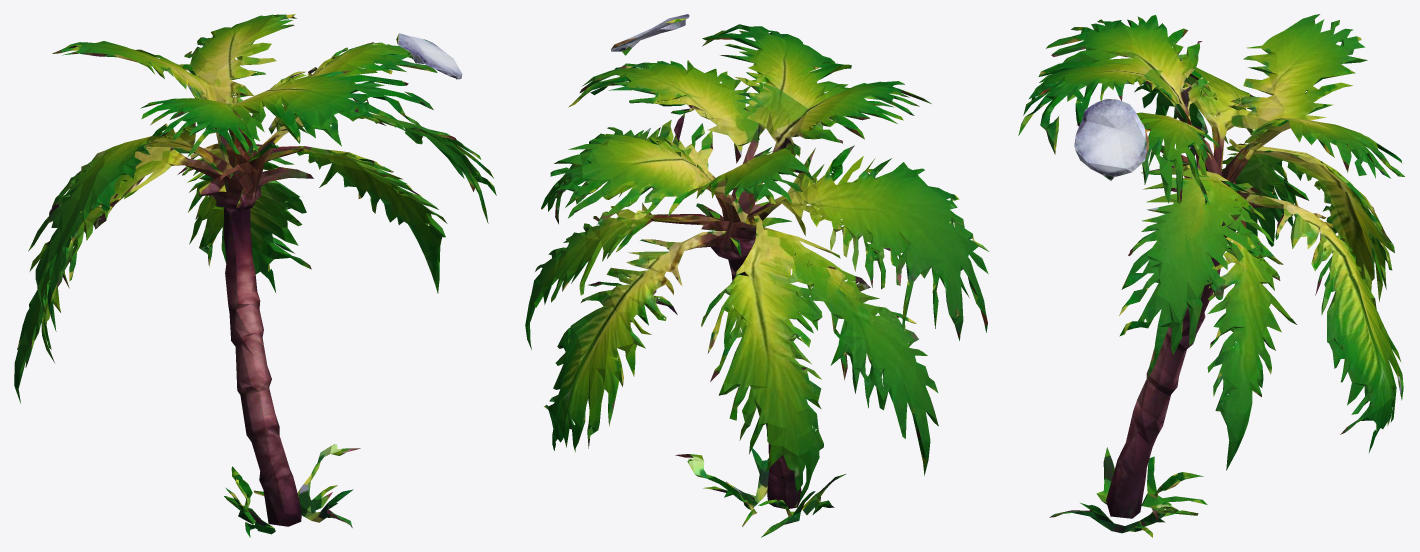
File: palm_a.glb
The picture shows the model from 3 angles, left to right: view 1: azimuth 30°, elevation 25°; view 2: azimuth 150°, elevation 25°; view 3: azimuth 270°, elevation 25°; orthographic projection. The views are drawn at different scales.
Parts seen in each view (by area): view 1: tmpb6tw956n.ply; view 2: tmpb6tw956n.ply; view 3: tmpb6tw956n.ply.
Boxes of the visible parts, bbox=[...] form: tmpb6tw956n.ply: bbox=[14, 14, 496, 537]; tmpb6tw956n.ply: bbox=[525, 14, 988, 537]; tmpb6tw956n.ply: bbox=[1018, 14, 1404, 537].
Size of the model in its own units: 1.97 by 2 by 1.48.
1 material, 1 textured.
